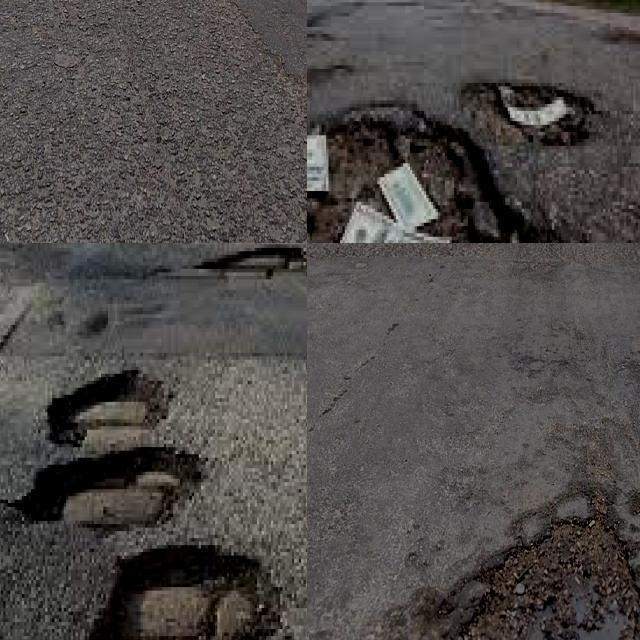Pothole: (307, 104, 559, 243), (458, 509, 640, 640), (91, 545, 283, 640), (13, 447, 210, 528), (52, 367, 175, 444), (459, 83, 594, 153), (206, 248, 307, 269)
